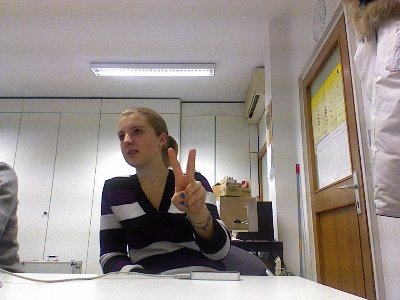剪刀: (167, 146, 206, 215)
